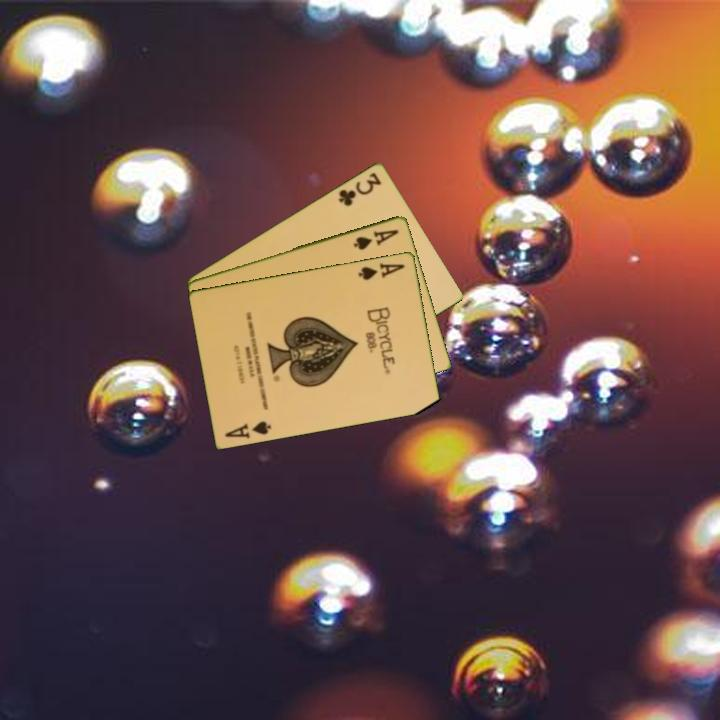3c: (335, 169, 384, 209)
As: (350, 225, 402, 252), (355, 259, 408, 283), (221, 417, 274, 441)
